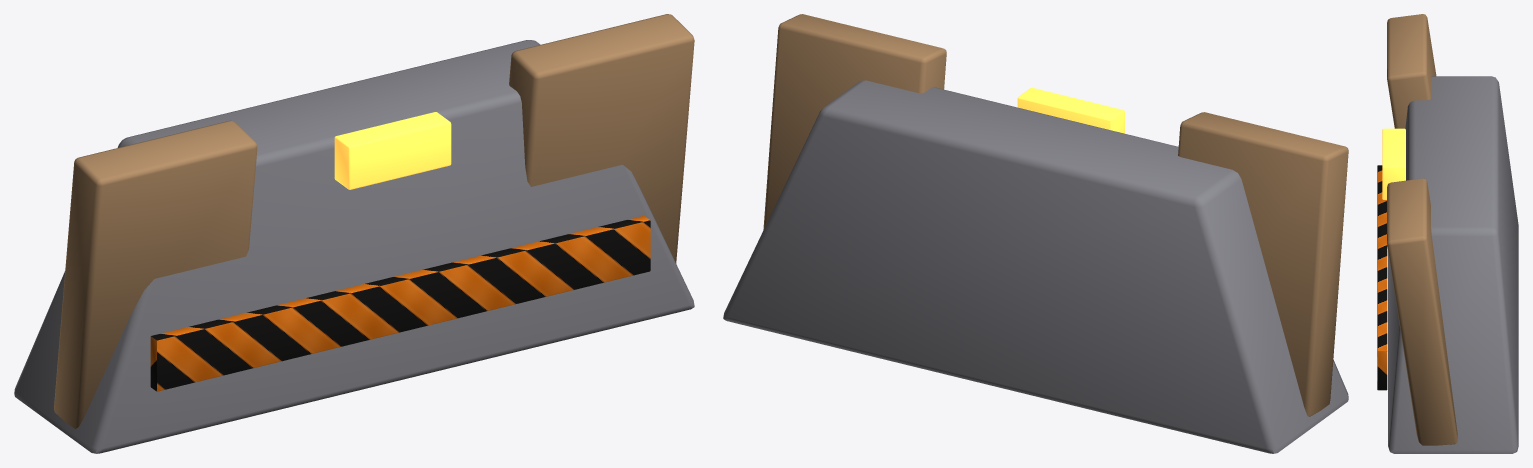
File: destructible_barricade.glb
The picture shows the model from 3 angles, left to right: view 1: azimuth 30°, elevation 25°; view 2: azimuth 150°, elevation 25°; view 3: azimuth 270°, elevation 25°; orthographic projection. The views are drawn at different scales.
Parts seen in each view (by area): view 1: PropBody_A1_CharcoalArmor, PropBody_A1_OchreDust, PropBody_A1_Hazard, PropBody_act1_PropGlow; view 2: PropBody_A1_CharcoalArmor, PropBody_A1_OchreDust, PropBody_act1_PropGlow; view 3: PropBody_A1_CharcoalArmor, PropBody_A1_OchreDust, PropBody_A1_Hazard, PropBody_act1_PropGlow.
Boxes of the visible parts, <box> form: PropBody_A1_CharcoalArmor: <box>14,40,694,453</box>; PropBody_A1_OchreDust: <box>54,14,694,428</box>; PropBody_A1_Hazard: <box>150,216,650,391</box>; PropBody_act1_PropGlow: <box>334,112,451,189</box>; PropBody_A1_CharcoalArmor: <box>723,80,1348,453</box>; PropBody_A1_OchreDust: <box>763,14,1348,416</box>; PropBody_act1_PropGlow: <box>1017,87,1124,133</box>; PropBody_A1_CharcoalArmor: <box>1388,76,1518,453</box>; PropBody_A1_OchreDust: <box>1387,14,1457,445</box>; PropBody_A1_Hazard: <box>1377,165,1387,390</box>; PropBody_act1_PropGlow: <box>1382,128,1405,199</box>.
Bounding box in the file's own units: 3.17 × 1.42 × 0.836.
4 materials, 1 textured.
